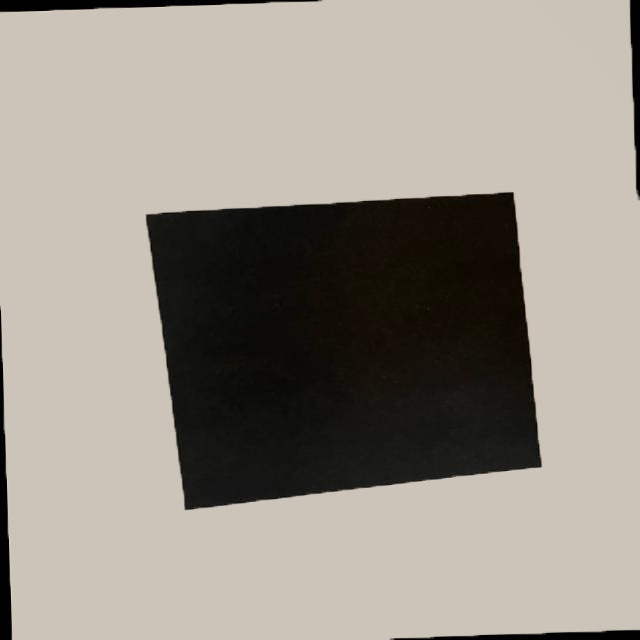Box: (145, 191, 539, 507)
